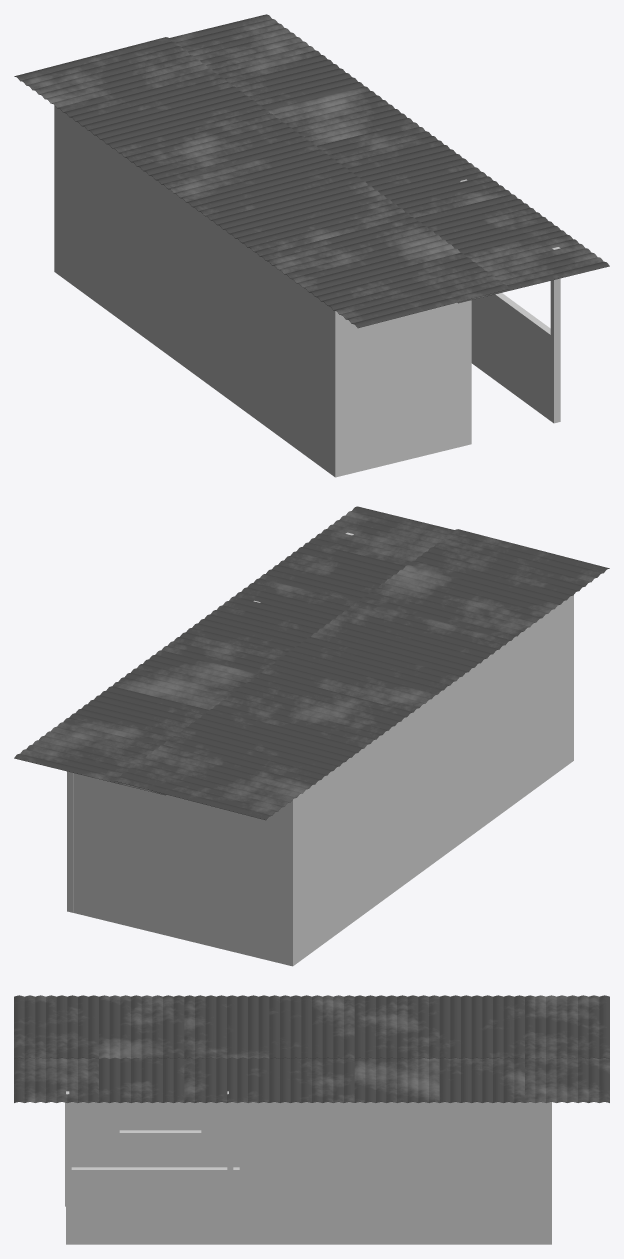
File: Casa07.fbx
The picture shows the model from 3 angles, top to bottom: view 1: azimuth 30°, elevation 25°; view 2: azimuth 150°, elevation 25°; view 3: azimuth 270°, elevation 25°; orthographic projection. The views are drawn at different scales.
Visible parts, largest first — view 1: Techo_1.006, Casa07; view 2: Techo_1.006, Casa07; view 3: Casa07, Techo_1.006.
Boxes of the visible parts, x1=… form: Techo_1.006: x1=14, y1=14, x2=609, y2=328; Casa07: x1=54, y1=105, x2=560, y2=477; Techo_1.006: x1=14, y1=506, x2=609, y2=820; Casa07: x1=67, y1=532, x2=573, y2=966; Casa07: x1=65, y1=1091, x2=551, y2=1244; Techo_1.006: x1=14, y1=995, x2=609, y2=1102.
Bounding box in the file's own units: 2563 × 1713 × 6055.
Materials: 2 (1 with a texture image).
